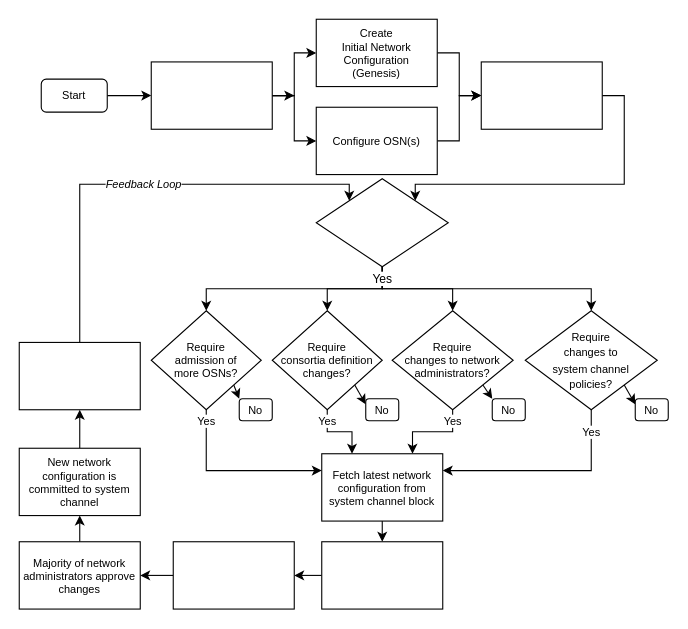
The diagram is 688 pixels wide and 629 high, and some of its shapes have lost their labels. Each missing label, with the centre of its shape:
"Additional Network Configuration required?" belongs at [381,222].
"Generate configuration transaction and share with other network administrators" belongs at [233,575].
"Initial Orderer Organization sets up CA" belongs at [211,95].
"Network configuration of OSN(s) are updated" belongs at [79,375].
"Start running OSN(s)" belongs at [541,95].
"Update network configuration" belongs at [382,575].
